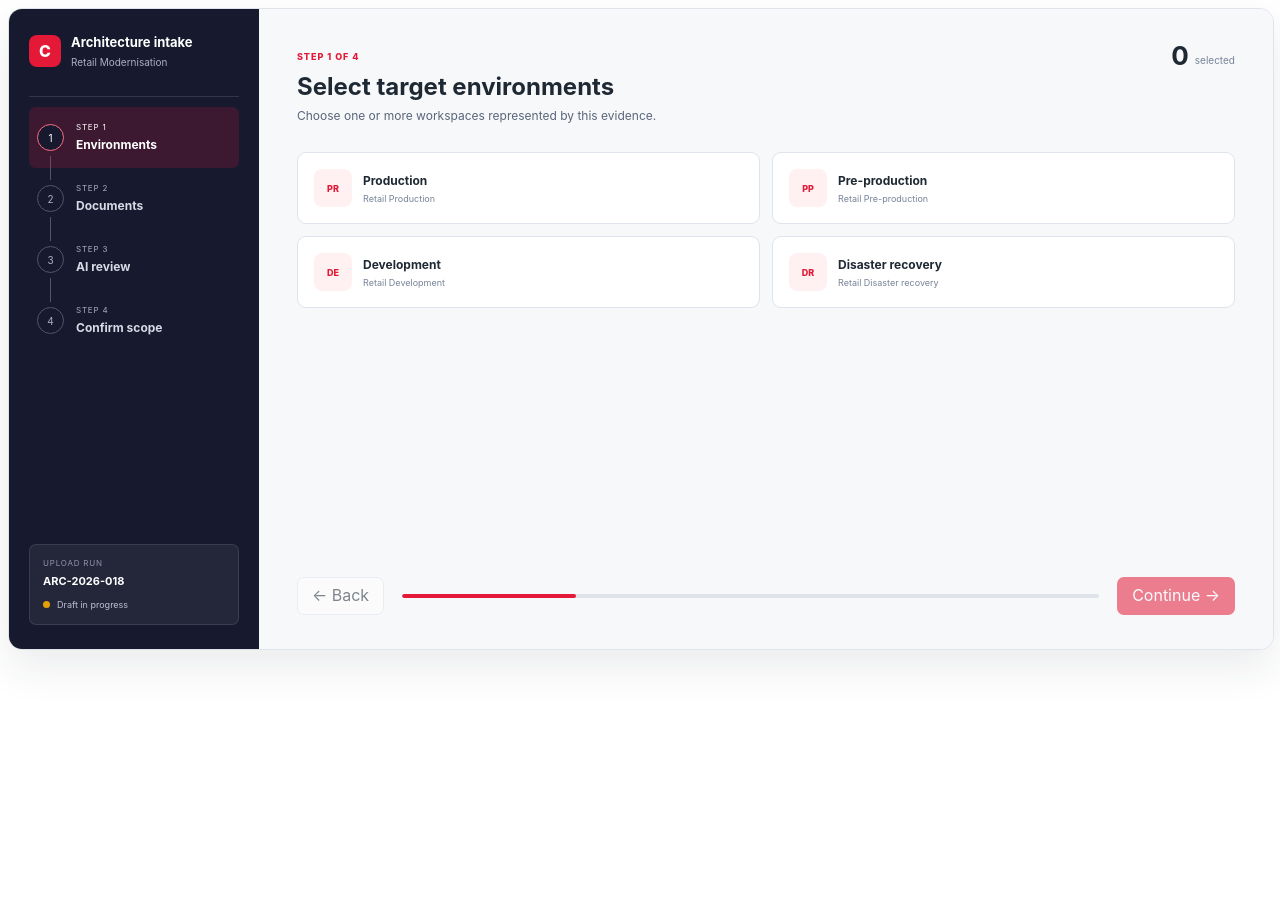
ArchitectureUploadWizard › gates environment, evidence, and completion requirements
Expected: the button "Continue →" is disabled, [1117,577,1235,615]
Step 1. Click the button "2 STEP 2 Documents" → (134, 199), box [29,168,239,229]
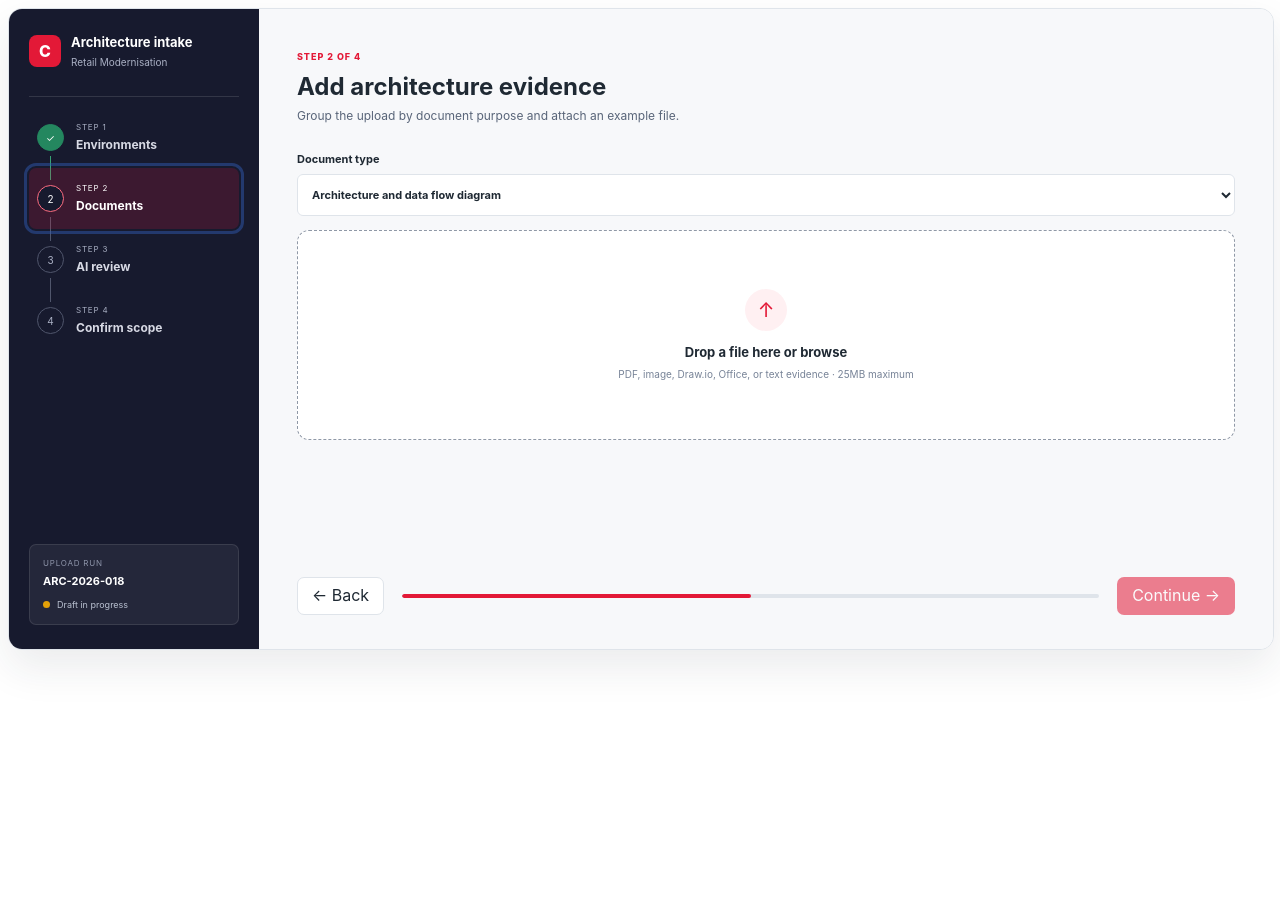
Expected: the button "Continue →" is disabled, [1117,577,1235,615]
Step 2. Click the button "4 STEP 4 Confirm scope" → (134, 321), box [29,290,239,351]
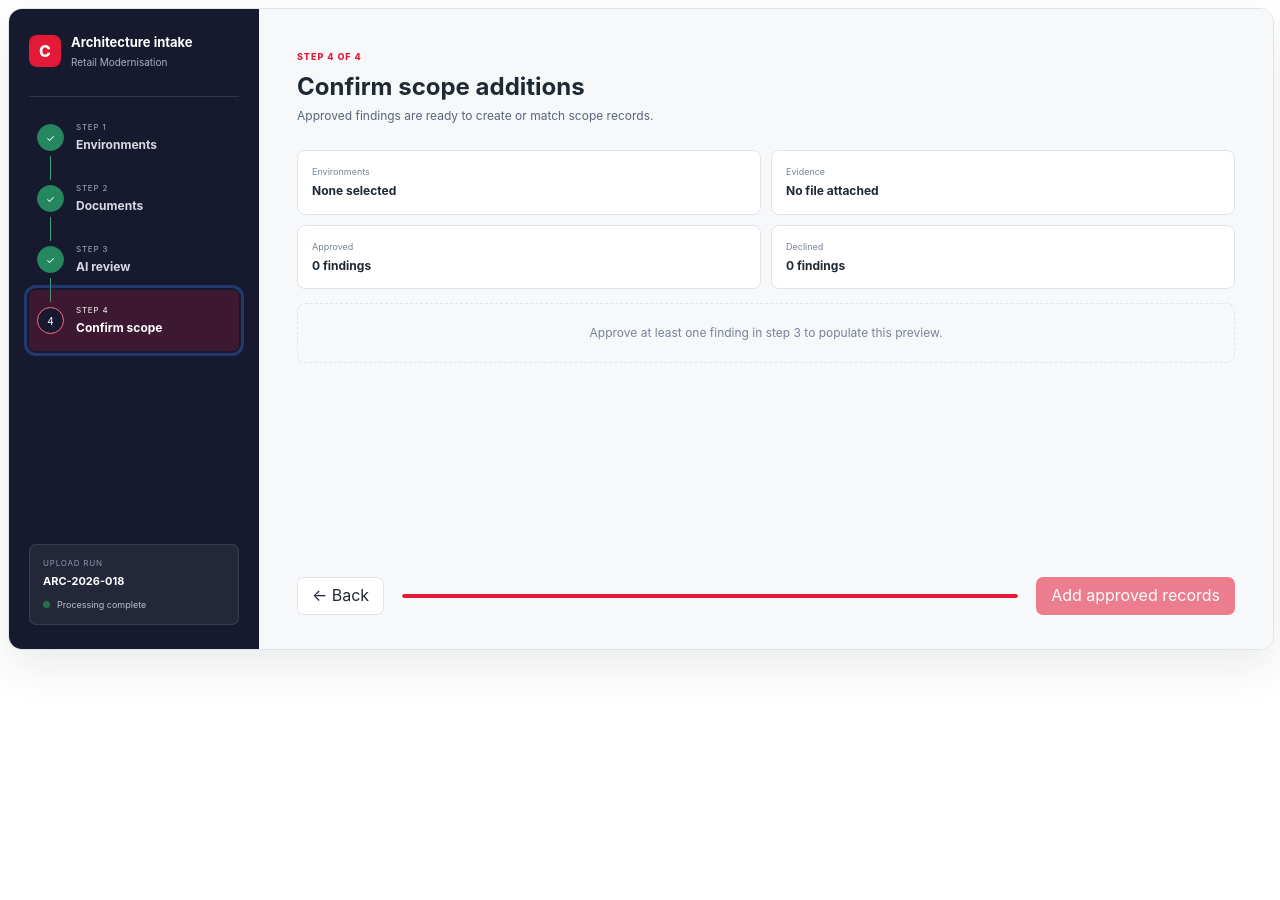
Expected: the button "Add approved records" is disabled, [1036,577,1235,615]
Expected: the text "Approve at least one finding" is shown, [590,325,942,340]
